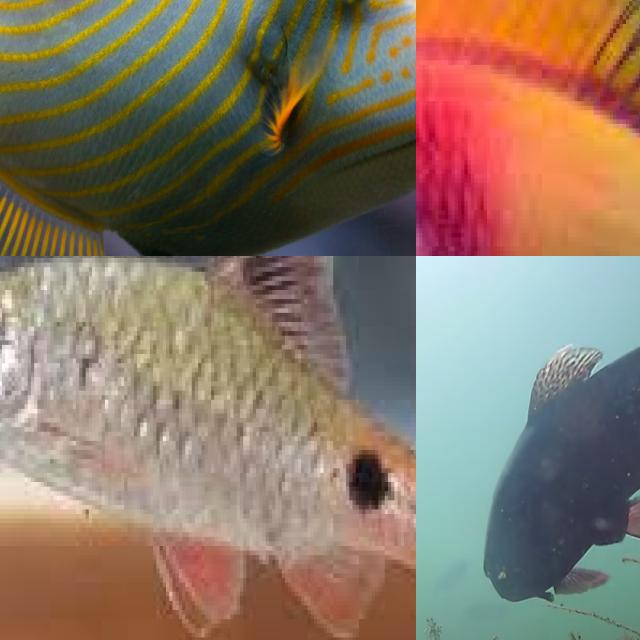fish: (0, 258, 416, 587), (0, 0, 416, 256), (416, 0, 640, 256), (451, 341, 640, 640)
